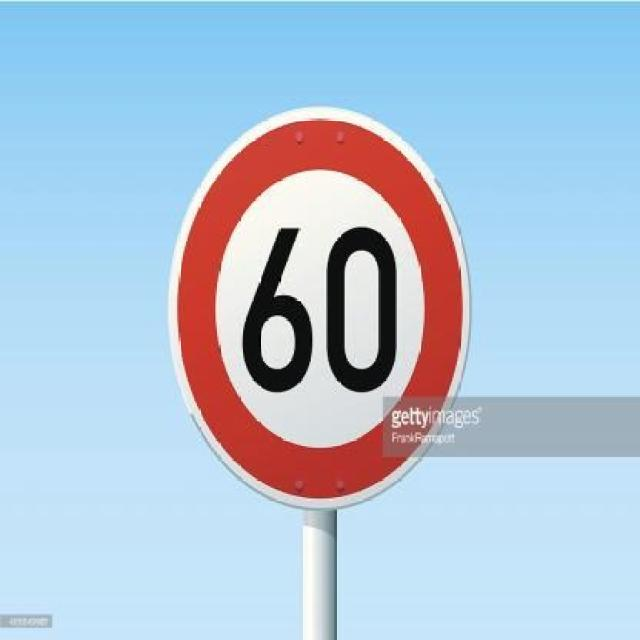forb_speed_over_60: (173, 113, 462, 504)
